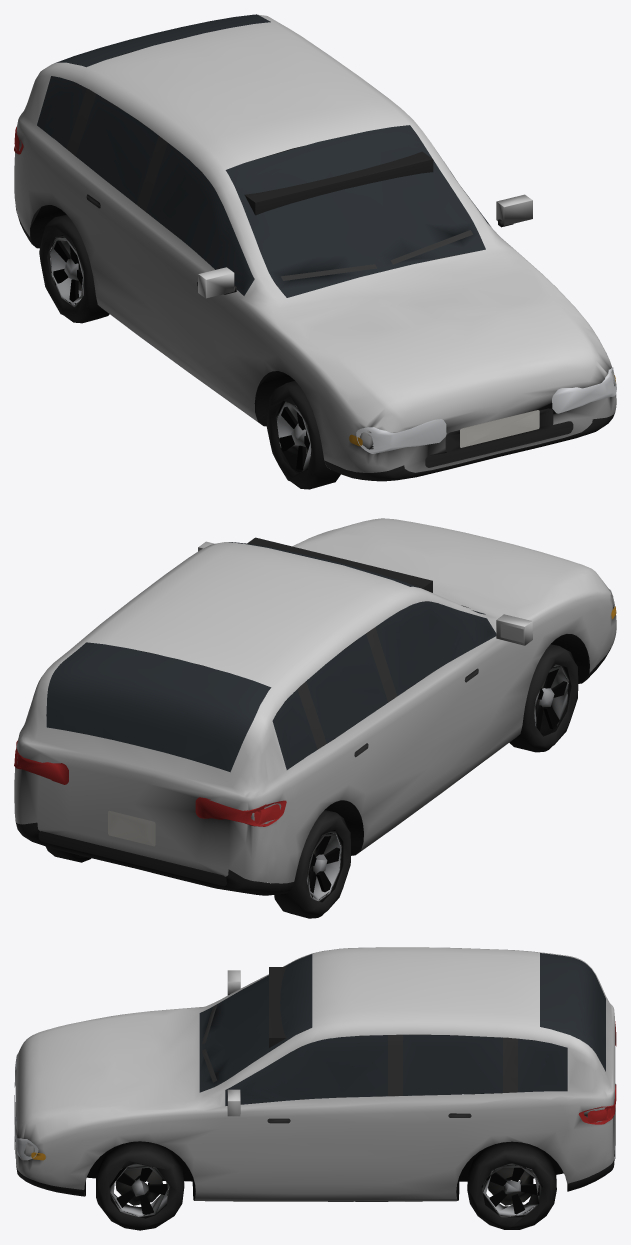
The model's file is car-hatch-lo-v1.glb.
3 views of the same model, one above another, from view 1: azimuth 30°, elevation 25°; view 2: azimuth 150°, elevation 25°; view 3: azimuth 270°, elevation 25° (orthographic). The views are drawn at different scales.
Parts seen in each view (by area): view 1: hatch; view 2: hatch; view 3: hatch.
Part boxes in pixels (box(x1,y1,x2,y2)): hatch: box(14, 14, 616, 489); hatch: box(14, 518, 616, 918); hatch: box(14, 947, 616, 1230).
Size of the model in its own units: 2.14 by 1.53 by 4.17.
